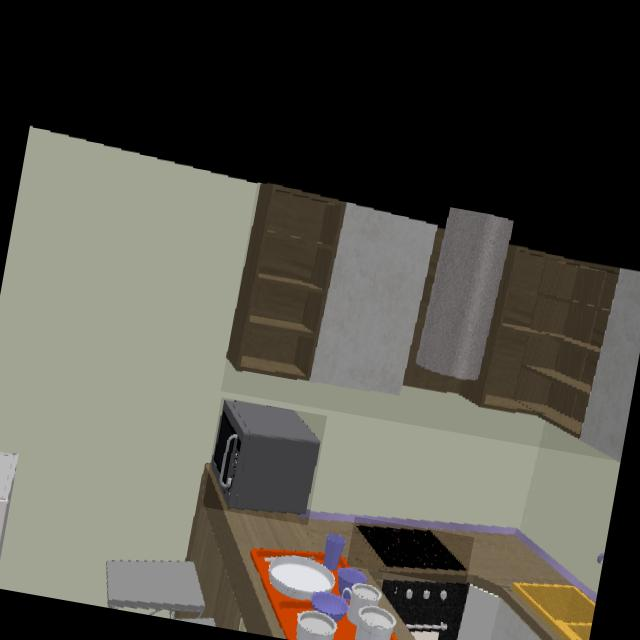cabinet: (226, 185, 640, 461)
countertop: (205, 486, 596, 640)
microwave: (209, 401, 320, 515)
oven: (379, 575, 475, 640)
sink: (460, 578, 595, 640)
stove: (353, 526, 467, 575)
